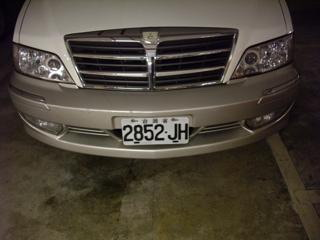plate: (120, 117, 191, 145)
